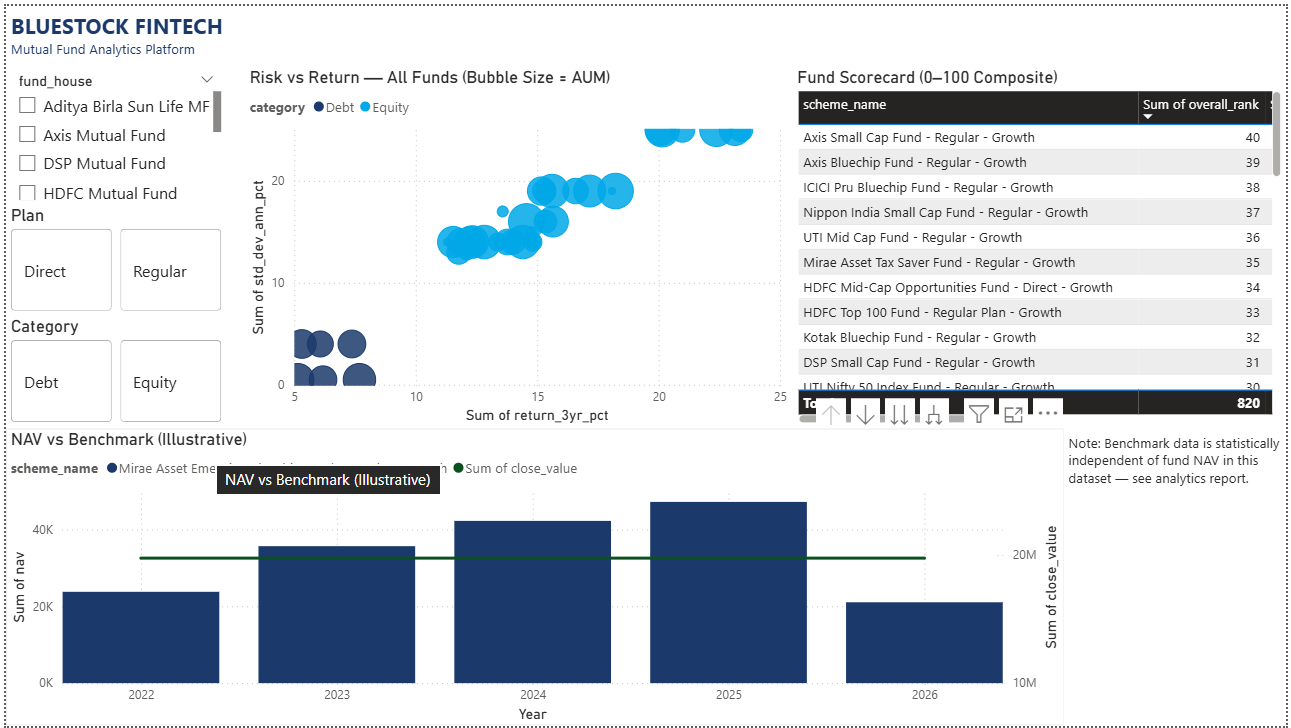

The page's visual inventory and layout, read from the dashboard file:
{"tool":"powerbi","page":{"name":"Fund Performance","canvas":[1280,720],"ordinal":1},"visuals":[{"type":"scatterChart","title":"Risk vs Return — All Funds (Bubble Size = AUM)","fields":{"X":["Sum(07_scheme_performance_clean.return_3yr_pct)"],"Y":["Sum(07_scheme_performance_clean.std_dev_ann_pct)"],"Size":["Sum(07_scheme_performance_clean.aum_crore)"],"Category":["01_fund_master_clean.scheme_name"],"Series":["01_fund_master_clean.category"]},"box":[238.8,61.2,547.5,361.2],"z":0},{"type":"tableEx","title":"Fund Scorecard (0–100 Composite)","fields":{"Values":["01_fund_master_clean.scheme_name","Sum(fund_scorecard.overall_rank)","Sum(fund_scorecard.composite_score)","Sum(fund_scorecard.cagr_3yr_pct)","Sum(fund_scorecard.sharpe_ratio)","Sum(fund_scorecard.max_drawdown_calc_pct)","Sum(01_fund_master_clean.expense_ratio_pct)"]},"box":[786.2,61.2,493.8,361.2],"z":1000},{"type":"lineClusteredColumnComboChart","title":"NAV vs Benchmark (Illustrative)","fields":{"Category":["02_nav_history_clean.date.Variation.Date Hierarchy.Year","02_nav_history_clean.date.Variation.Date Hierarchy.Quarter","02_nav_history_clean.date.Variation.Date Hierarchy.Month","02_nav_history_clean.date.Variation.Date Hierarchy.Day"],"Y":["Sum(02_nav_history_clean.nav)"],"Y2":["Sum(10_benchmark_indices_clean.close_value)"],"Series":["01_fund_master_clean.scheme_name"]},"box":[0,421.9,1057.8,298.4],"z":2000},{"type":"slicer","title":"Fund House","fields":{"Values":["01_fund_master_clean.fund_house"]},"box":[0,61.1,220.1,138.2],"z":3000},{"type":"advancedSlicerVisual","title":"Category","fields":{"Values":["01_fund_master_clean.category"]},"box":[0,310.6,220.1,111.3],"z":4000},{"type":"advancedSlicerVisual","title":"Plan","fields":{"Values":["01_fund_master_clean.plan"]},"box":[0,199.3,220.1,111.3],"z":5000},{"type":"textbox","box":[1058,422,222,298],"z":6000},{"type":"textbox","box":[0,0,238.5,61.1],"z":7000}]}

Visuals, with their boxes in screenshot pixels (x1, y1, x2, y2), scaled from the page's 1280x720 canvas onto the 1291x728 screenshot:
"Risk vs Return — All Funds (Bubble Size = AUM)" scatterChart: [241, 62, 793, 427]
"Fund Scorecard (0–100 Composite)" tableEx: [793, 62, 1290, 427]
"NAV vs Benchmark (Illustrative)" lineClusteredColumnComboChart: [0, 427, 1067, 727]
"Fund House" slicer: [0, 62, 222, 202]
"Category" advancedSlicerVisual: [0, 314, 222, 427]
"Plan" advancedSlicerVisual: [0, 202, 222, 314]
textbox: [1067, 427, 1290, 727]
textbox: [0, 0, 241, 62]
